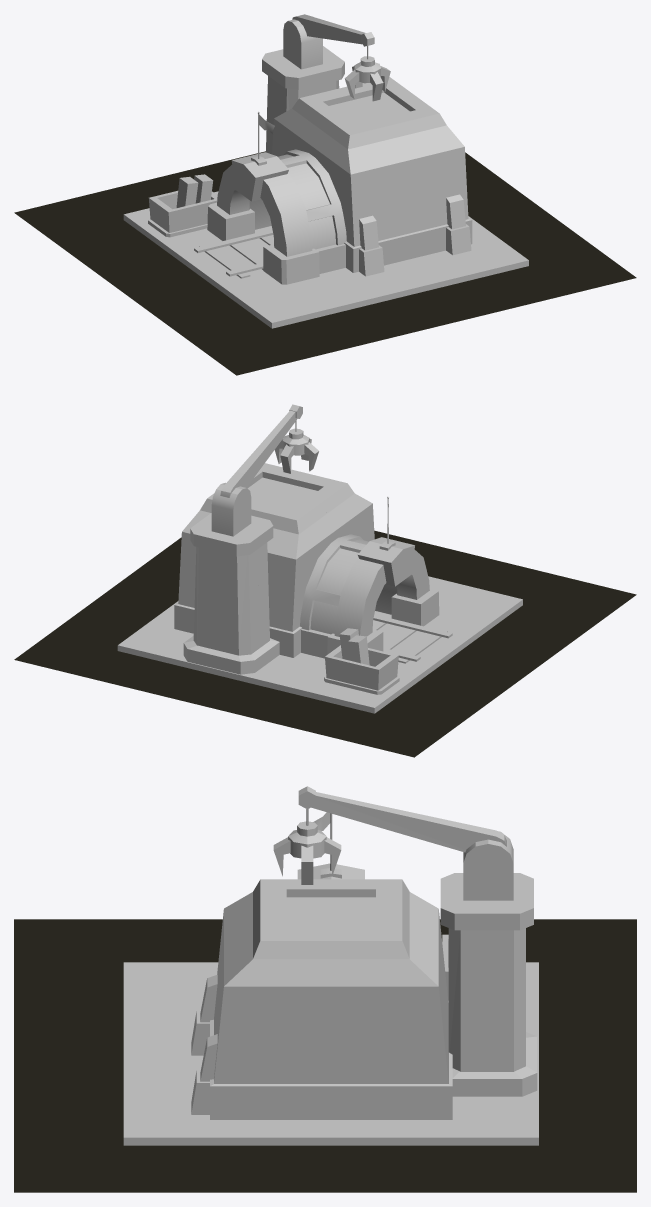
The model's file is yelianchang_04.FBX.
The picture shows the model from 3 angles, top to bottom: view 1: azimuth 30°, elevation 25°; view 2: azimuth 150°, elevation 25°; view 3: azimuth 270°, elevation 25°; orthographic projection. The views are drawn at different scales.
Parts seen in each view (by area): view 1: yelianchang_04, Plane004; view 2: yelianchang_04, Plane004; view 3: yelianchang_04, Plane004.
Boxes of the visible parts, bbox=[...] form: yelianchang_04: bbox=[123, 14, 528, 328]; Plane004: bbox=[14, 151, 636, 375]; yelianchang_04: bbox=[117, 404, 522, 713]; Plane004: bbox=[14, 530, 636, 757]; yelianchang_04: bbox=[123, 786, 538, 1145]; Plane004: bbox=[14, 919, 636, 1192].
Bounding box in the file's own units: 1430 × 713 × 1377.
